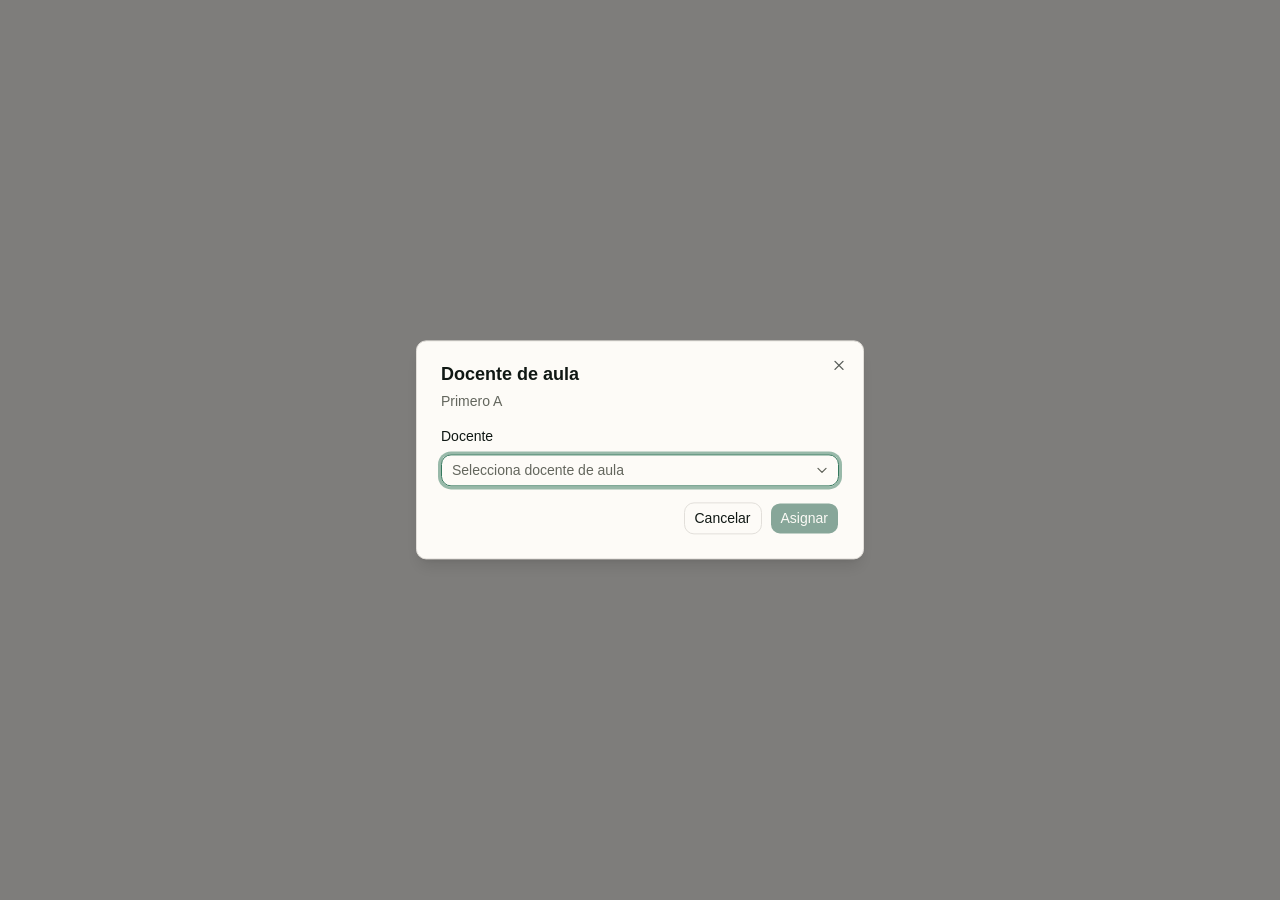
Scenario: SetHomeroomDialog, curso sin docente de aula › no cuenta como ocupado al docente de aula de otra gestión
Click the dropdown at {"x": 538, "y": 471}, box [441,455,839,487]
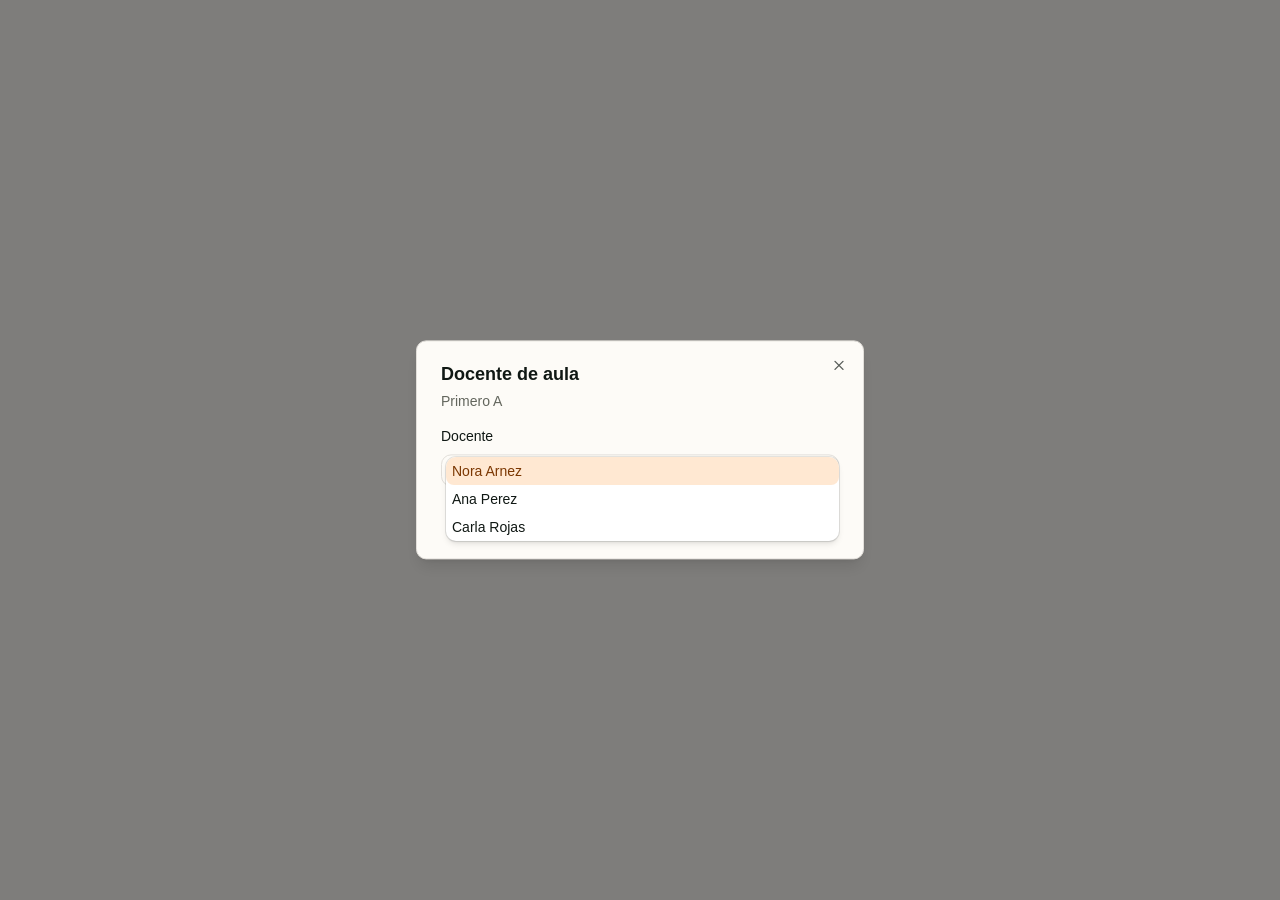
Click the option "Carla Rojas" at {"x": 489, "y": 527}, box [452,519,525,535]
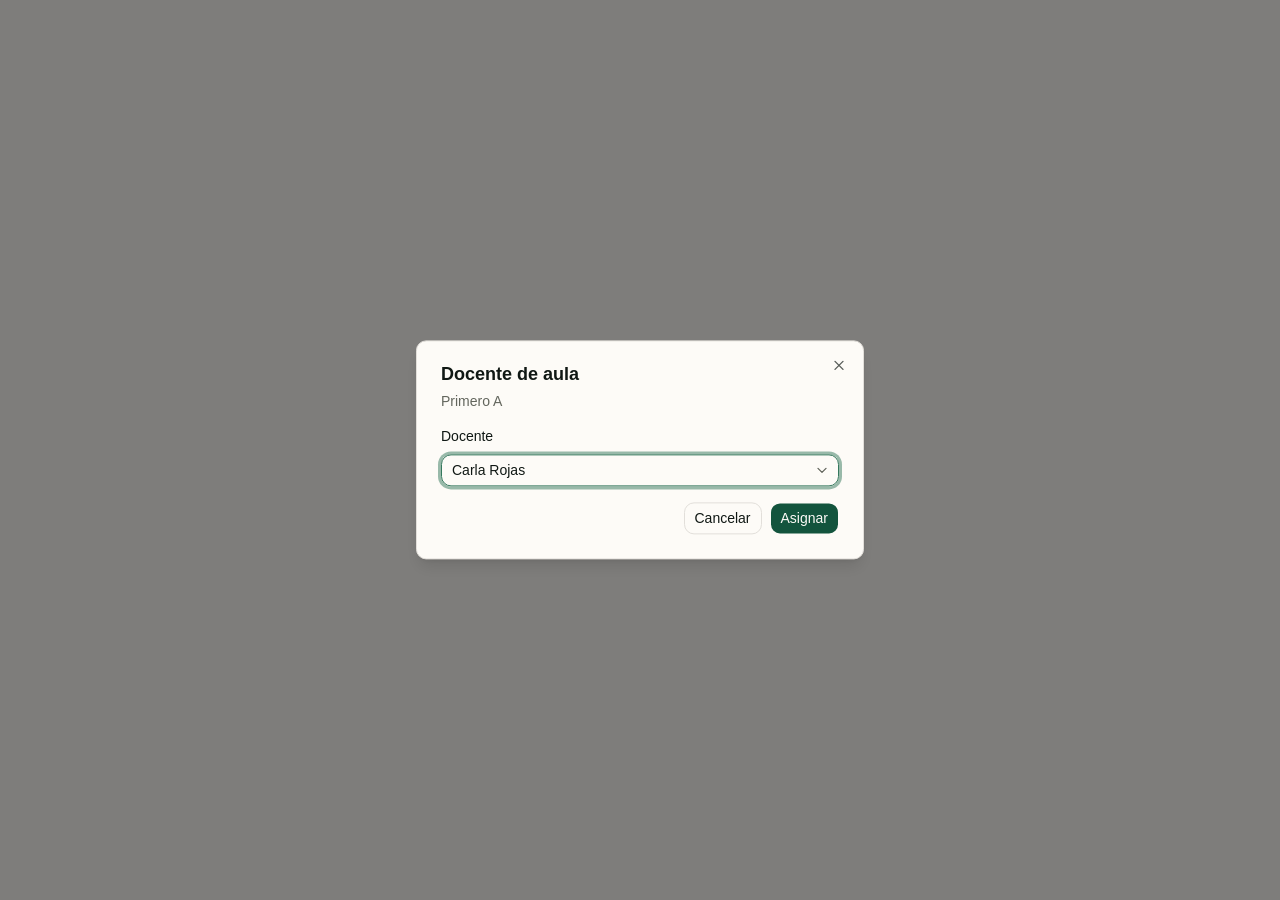
Expected: the button "Asignar" is enabled, [770,503,839,535]
